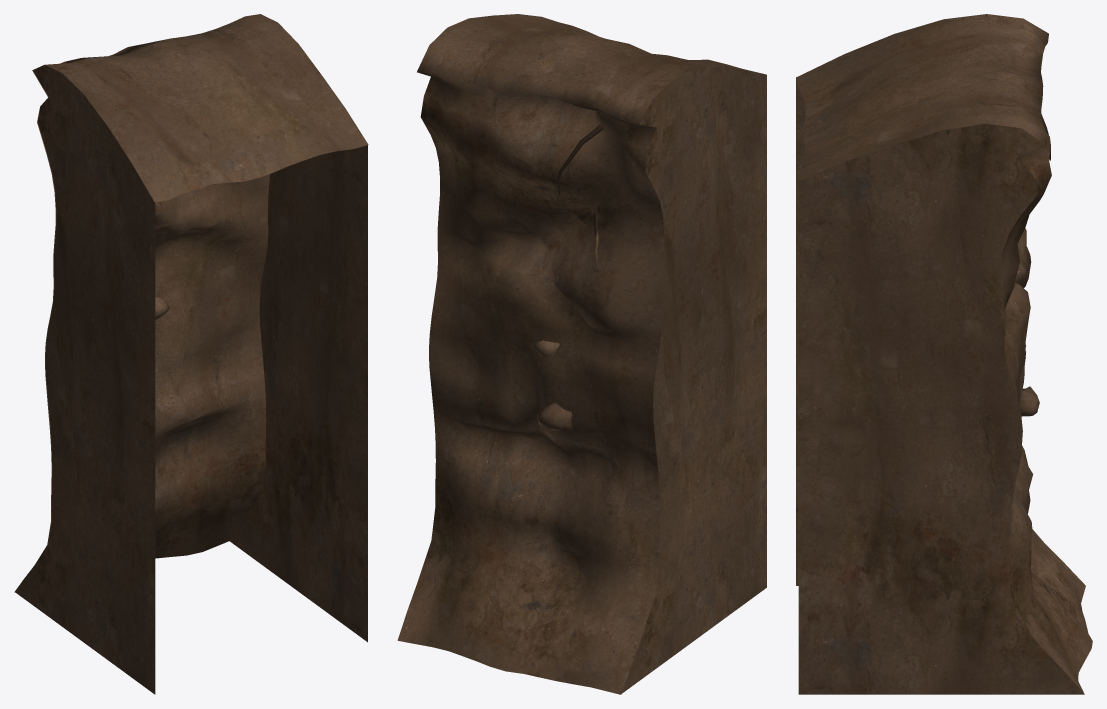
Rendered from S7U_EarthBank_1m.fbx.
3 renders of one model, left to right at view 1: azimuth 30°, elevation 25°; view 2: azimuth 150°, elevation 25°; view 3: azimuth 270°, elevation 25°, orthographic. The views are drawn at different scales.
Parts seen in each view (by area): view 1: S7U_EarthBank_1m; view 2: S7U_EarthBank_1m; view 3: S7U_EarthBank_1m.
Boxes of the visible parts, x1=… form: S7U_EarthBank_1m: x1=14, y1=14, x2=368, y2=694; S7U_EarthBank_1m: x1=397, y1=14, x2=766, y2=694; S7U_EarthBank_1m: x1=796, y1=14, x2=1092, y2=694.
Bounding box in the file's own units: 1 × 2.47 × 1.16.
Materials: 2 (2 with a texture image).
